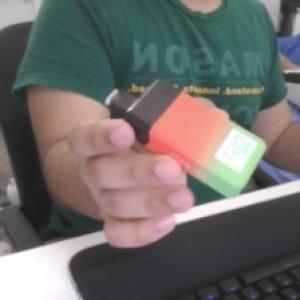Swift-E-Ciggirate: (104, 75, 270, 199)
